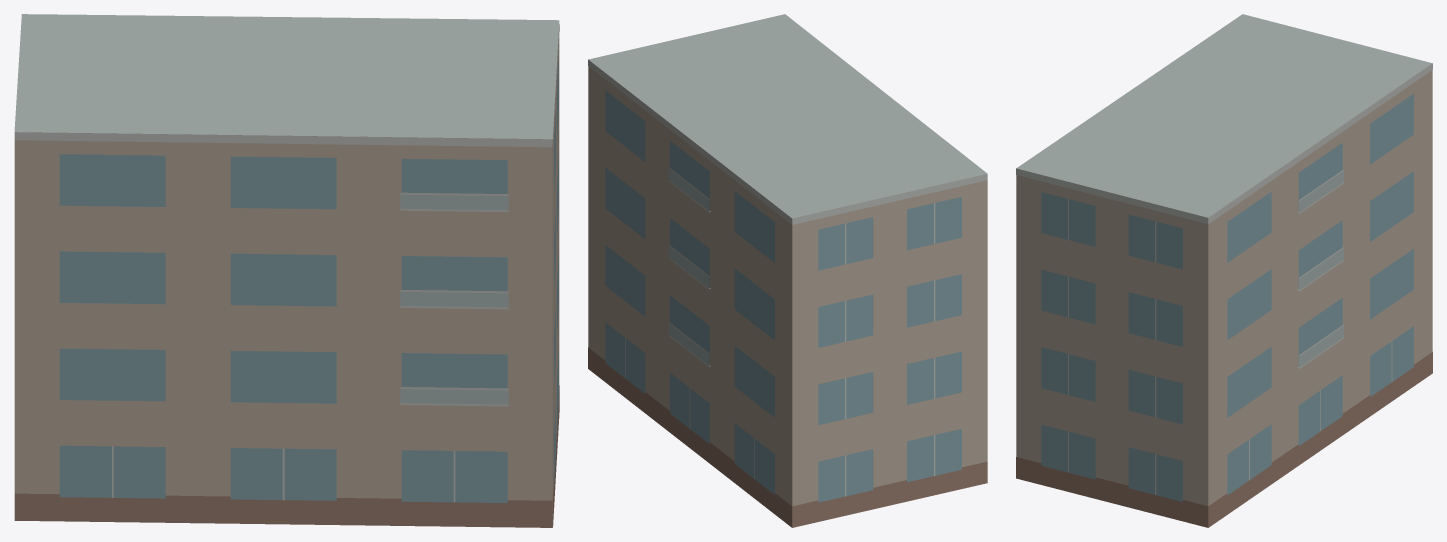
Rendered from survey-upis-32880149.glb.
3 views of the same model, side by side, from view 1: azimuth 30°, elevation 25°; view 2: azimuth 150°, elevation 25°; view 3: azimuth 270°, elevation 25° (orthographic). The views are drawn at different scales.
Visible parts, largest first — view 1: survey-upis-32880149.tmp; view 2: survey-upis-32880149.tmp; view 3: survey-upis-32880149.tmp.
Boxes of the visible parts, bbox=[...] form: survey-upis-32880149.tmp: bbox=[14, 14, 559, 527]; survey-upis-32880149.tmp: bbox=[588, 14, 987, 527]; survey-upis-32880149.tmp: bbox=[1016, 14, 1432, 527].
Bounding box in the file's own units: 16.5 × 11.7 × 14.26.
